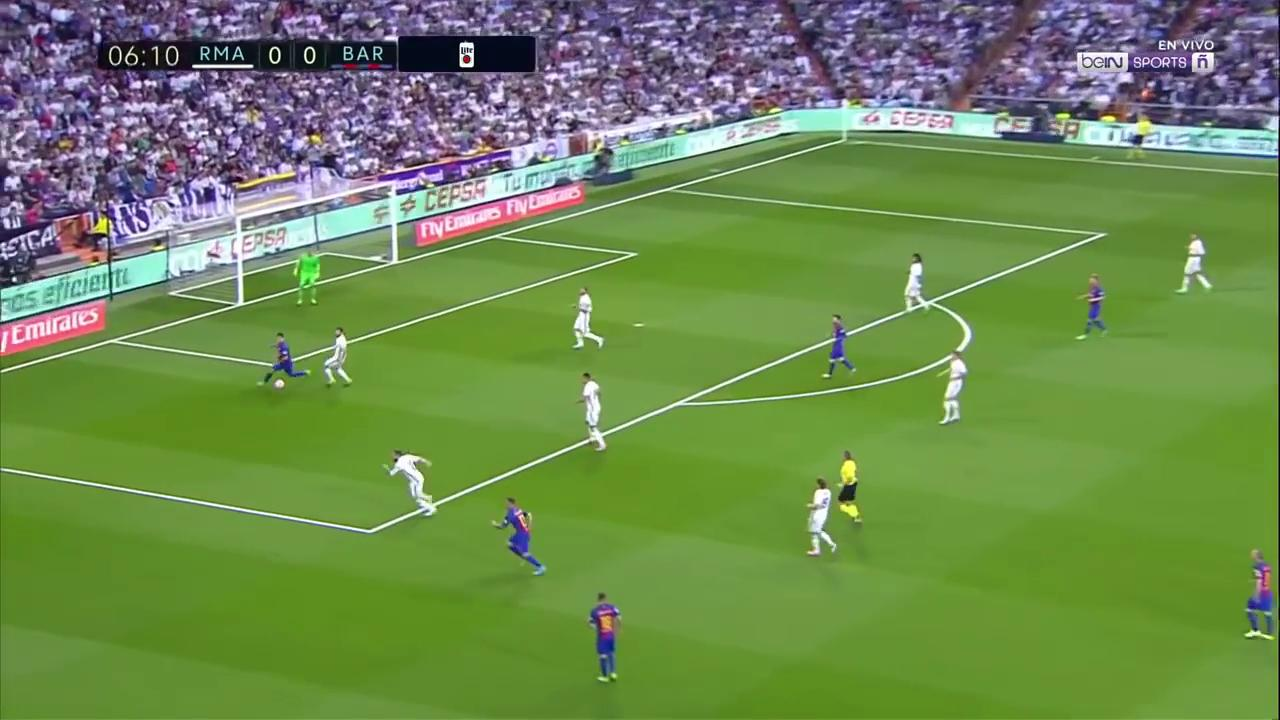ball: (275, 378, 285, 389)
goalie: (293, 246, 322, 307)
player: (492, 496, 548, 578), (377, 448, 436, 519), (584, 591, 623, 683), (257, 327, 314, 387), (1242, 545, 1274, 644), (1069, 272, 1113, 343), (571, 368, 607, 454), (802, 475, 837, 562), (817, 311, 859, 382), (1173, 229, 1214, 301), (936, 349, 969, 427), (569, 284, 604, 352), (903, 249, 931, 313), (325, 325, 352, 391)
referee: (830, 448, 864, 527)
